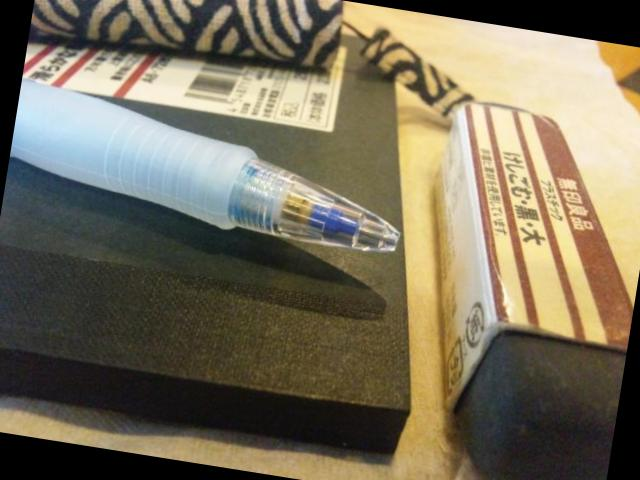PEN: (0, 67, 412, 324)
